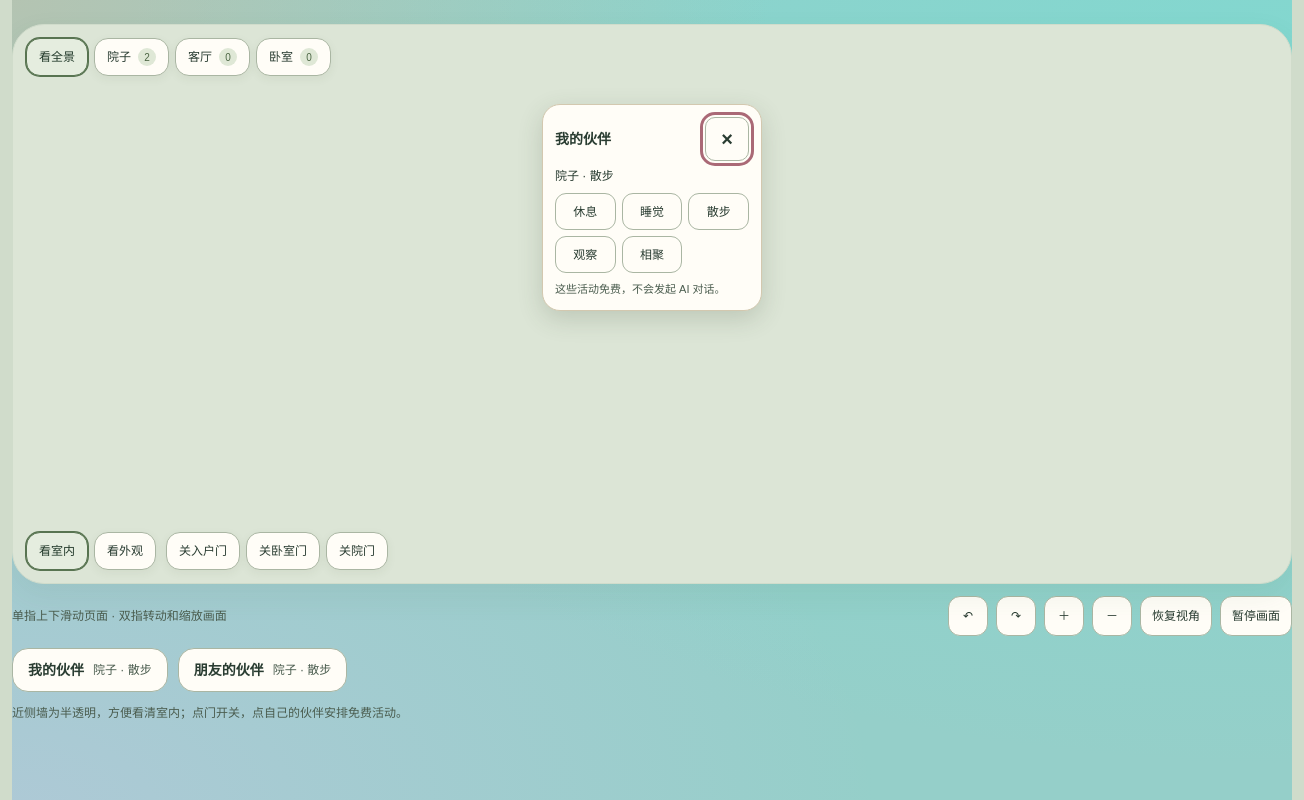
Test: mobile world interaction panels › keeps only owned activity actions, records a single deliberate action and closes accessibly
Click the button with aria-label "安排相聚" at (652, 254), box x1=622 y1=236 x2=682 y2=273
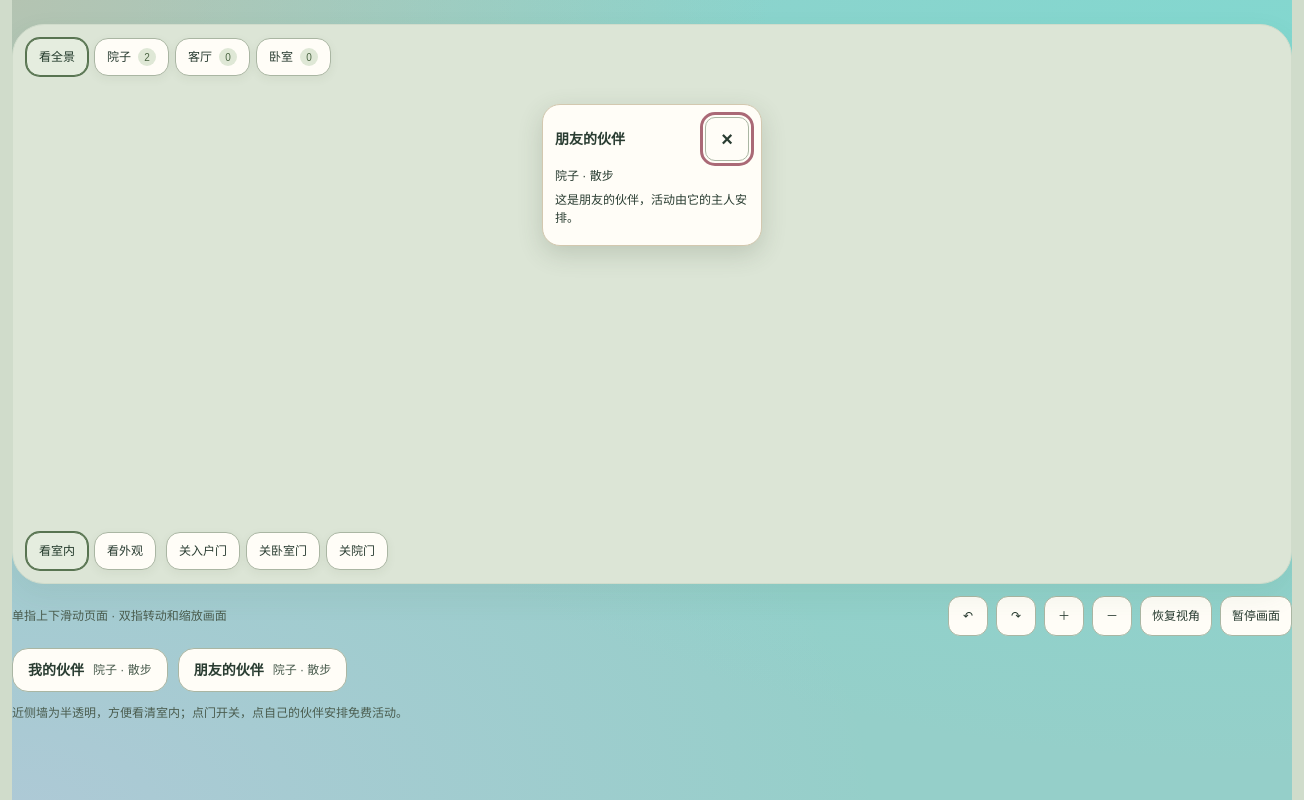
Result: the text "这是朋友的伙伴，活动由它的主人安排。" is shown at x1=555 y1=191 x2=749 y2=227
Click the button named "关闭活动菜单" at (727, 139), box x1=705 y1=117 x2=749 y2=161
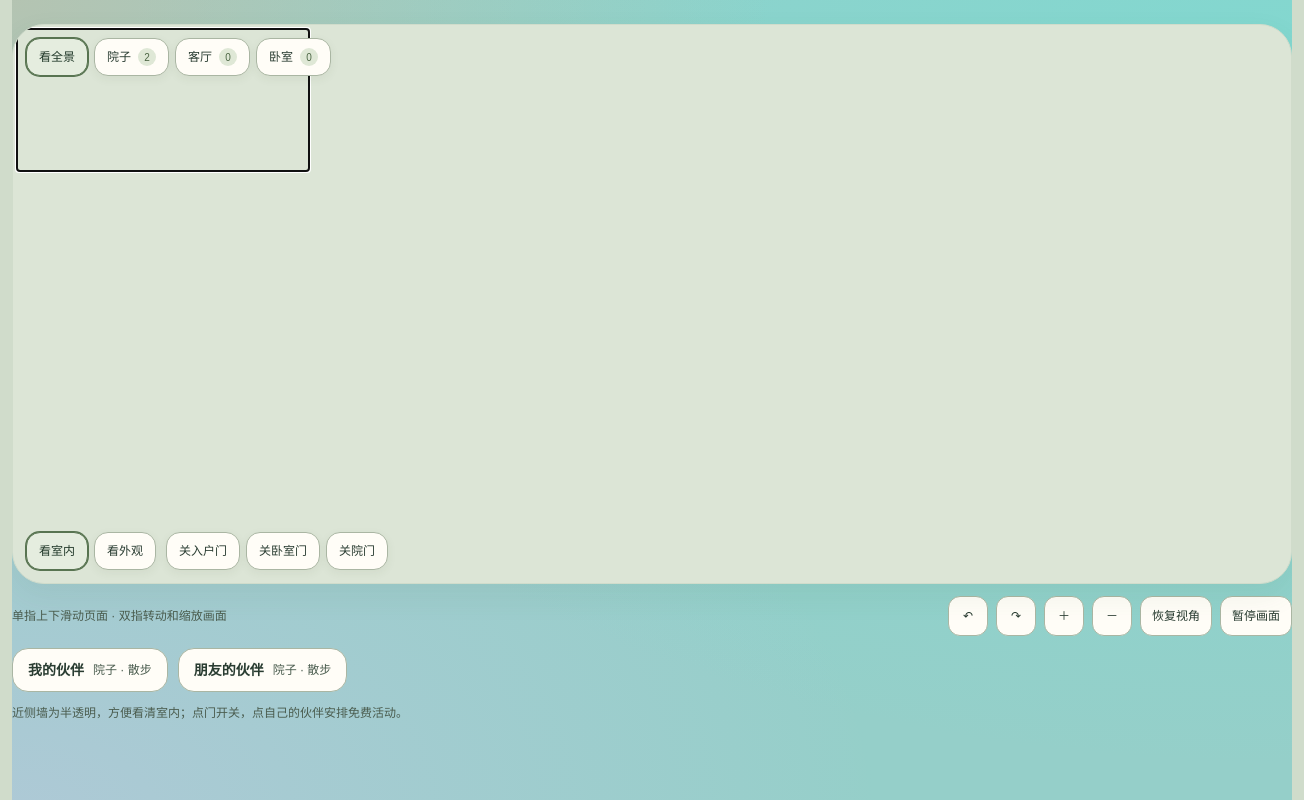
Result: the element "朋友的伙伴的活动" is gone
